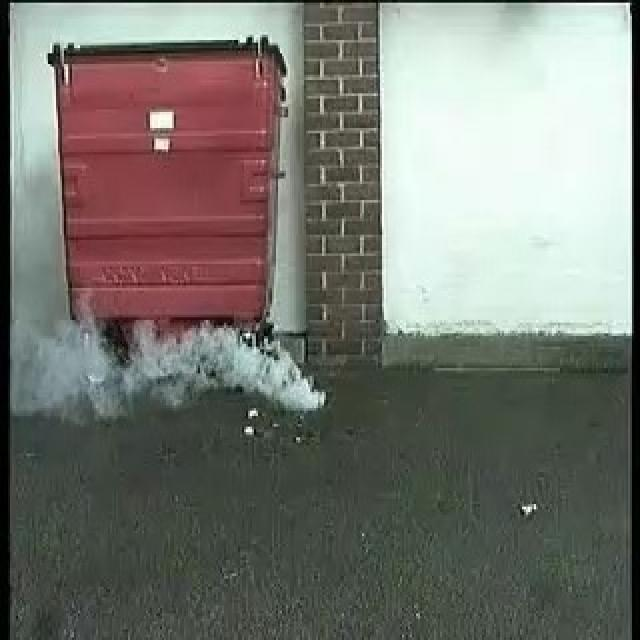smoke: (52, 320, 322, 408)
